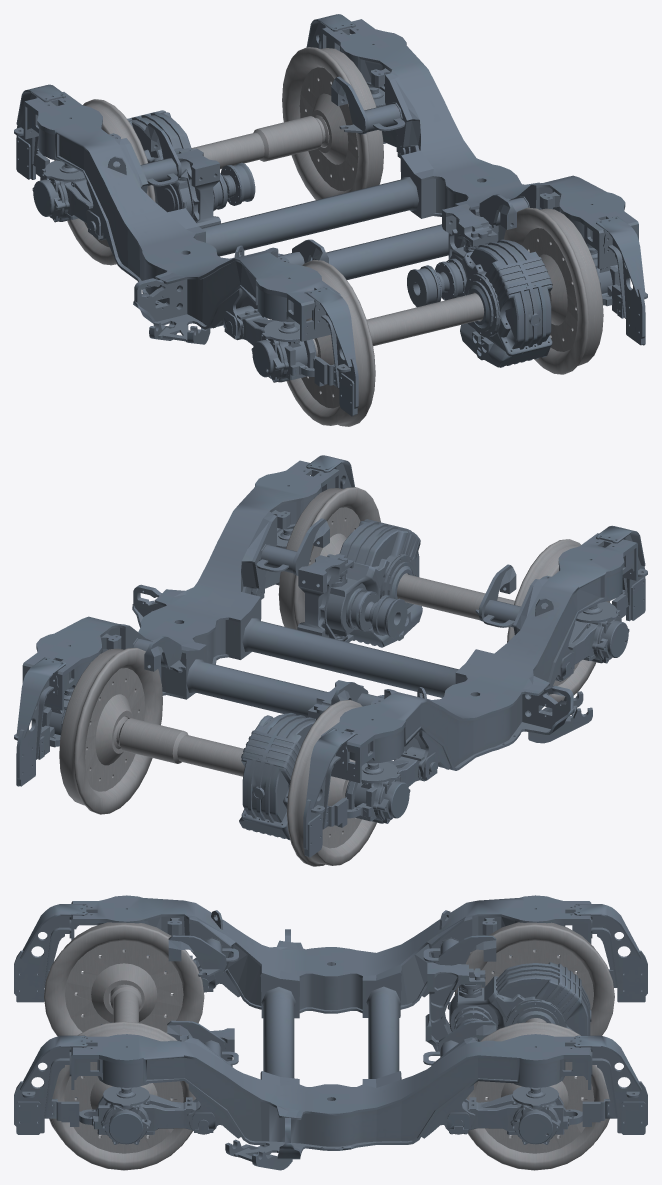
File: 转向架.fbx
The picture shows the model from 3 angles, top to bottom: view 1: azimuth 30°, elevation 25°; view 2: azimuth 150°, elevation 25°; view 3: azimuth 270°, elevation 25°; orthographic projection. The views are drawn at different scales.
Parts seen in each view (by area): view 1: 构架, 轮子3, 轮子1, 轮子2, 杆子1, 杆子, 轮子4; view 2: 构架, 轮子3, 轮子4, 轮子1, 杆子1, 杆子, 轮子2; view 3: 构架, 轮子2, 轮子1, 轮子3, 轮子4, 杆子.
Part boxes in pixels (x1,y1,x2,y2): 构架: (14, 14, 647, 416); 轮子3: (282, 47, 383, 200); 轮子1: (503, 207, 603, 374); 轮子2: (286, 259, 375, 426); 杆子1: (191, 115, 329, 169); 杆子: (313, 292, 484, 356); 轮子4: (54, 99, 155, 265); 构架: (14, 455, 647, 857); 轮子3: (59, 647, 162, 814); 轮子4: (287, 700, 376, 866); 轮子1: (278, 487, 380, 629); 杆子1: (113, 716, 348, 797); 杆子: (397, 573, 514, 627); 轮子2: (507, 539, 609, 702); 构架: (14, 895, 647, 1170); 轮子2: (44, 922, 204, 1036); 轮子1: (49, 1021, 195, 1170); 轮子3: (466, 1021, 609, 1170); 轮子4: (454, 922, 614, 1035); 杆子: (110, 984, 141, 1022).
Size of the model in its own units: 317 by 105 by 419.
Materials: 2 (2 with a texture image).
